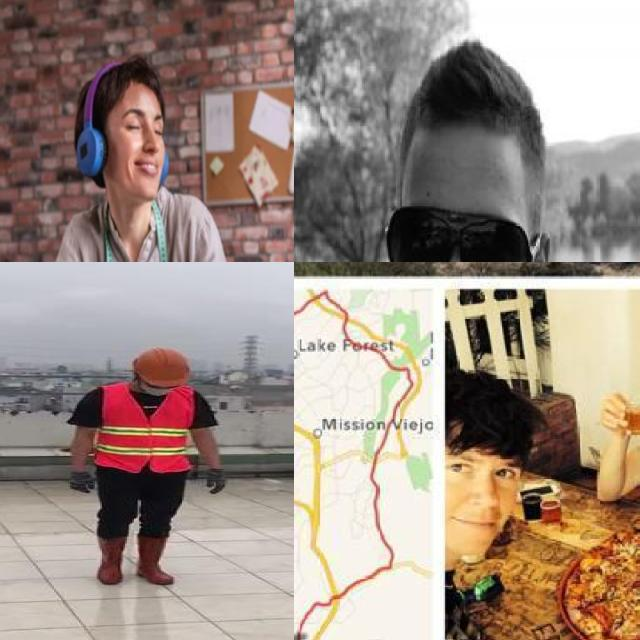Ear-protection: (69, 54, 183, 216)
boots: (134, 534, 175, 585), (95, 536, 129, 583)
face_mask: (138, 381, 176, 397)
face_nomask: (389, 202, 525, 262), (444, 454, 516, 531)
glasses: (381, 199, 533, 262)
hand_glove: (200, 466, 230, 495), (66, 470, 96, 493)
hand_noglove: (598, 390, 638, 437)
head_helmet: (132, 348, 194, 387)
head_nohelmet: (398, 49, 546, 163), (438, 366, 543, 467)
person: (68, 348, 234, 592), (588, 345, 640, 528)
vest: (98, 384, 200, 472)
